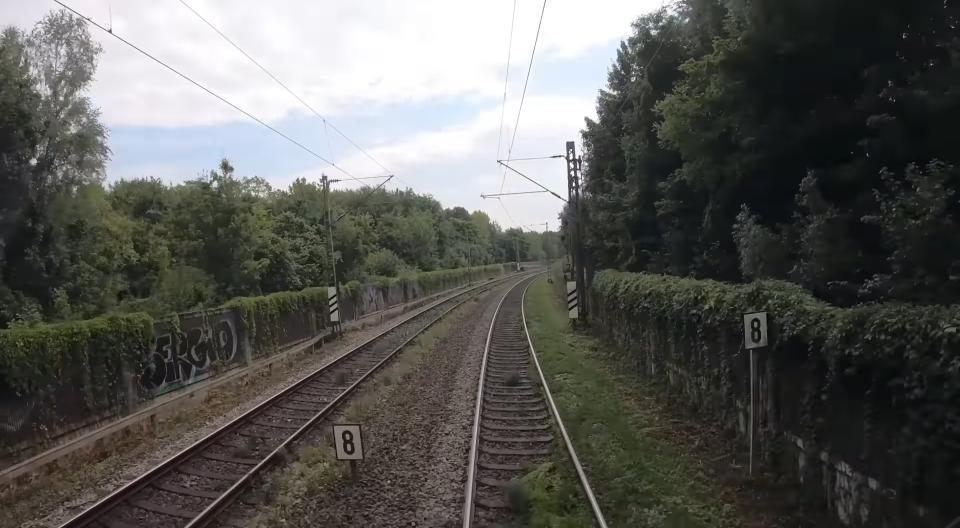Plant: (524, 276, 733, 528), (343, 290, 491, 418), (225, 426, 352, 528), (371, 286, 487, 359), (509, 457, 594, 528), (230, 434, 274, 460), (334, 366, 360, 386), (504, 371, 524, 386), (528, 370, 539, 382), (359, 359, 369, 368)
